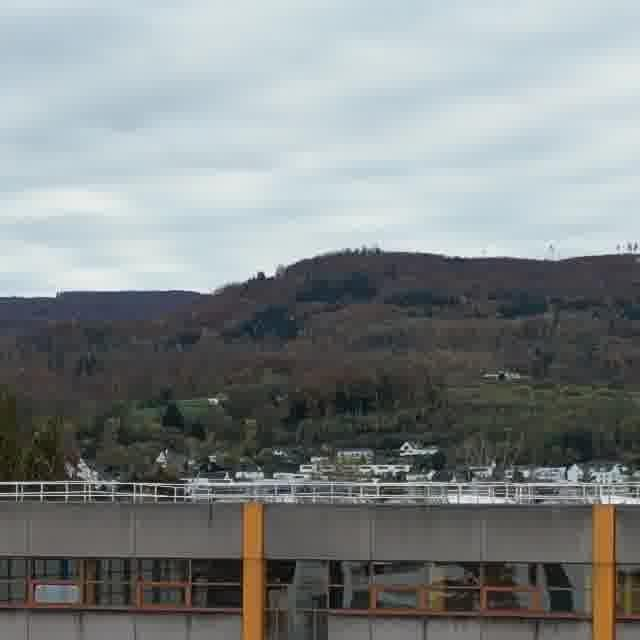Drohne: (484, 370, 522, 380)
